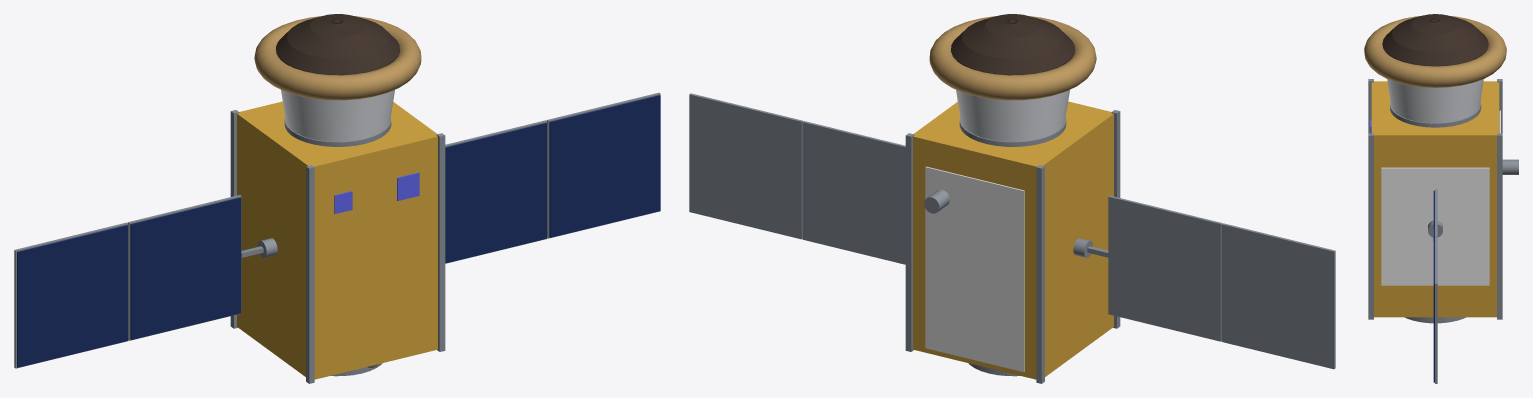
Rendered from SP-ALY.glb.
3 views of the same model, side by side, from view 1: azimuth 30°, elevation 25°; view 2: azimuth 150°, elevation 25°; view 3: azimuth 270°, elevation 25° (orthographic). The views are drawn at different scales.
Parts seen in each view (by area): view 1: service_module_structure, solar_panel_-X1, solar_panel_+X2, solar_panel_-X2, solar_panel_+X1, nose, heat_shield_packed, capsule_backshell, corner_rail_-X-Y, corner_rail_+X-Y, panel_frame_-X2, panel_frame_-X1 (+5 smaller); view 2: service_module_structure, radiator_+Y_face, panel_frame_-X2, panel_frame_+X2, panel_frame_-X1, panel_frame_+X1, nose, heat_shield_packed, capsule_backshell, corner_rail_-X+Y, corner_rail_+X+Y, corner_rail_-X-Y (+1 smaller); view 3: service_module_structure, furnace_radiator, nose, heat_shield_packed, capsule_backshell, corner_rail_+X-Y, corner_rail_+X+Y, separation_interface, panel_frame_+X2, solar_panel_+X2, launch_separation_ring, star_tracker (+3 smaller).
Part boxes in pixels (box(x1,y1,x2,y2)): service_module_structure: box(237, 101, 437, 379); solar_panel_-X1: box(130, 197, 241, 339); solar_panel_+X2: box(549, 95, 660, 237); solar_panel_-X2: box(17, 225, 127, 367); solar_panel_+X1: box(445, 123, 546, 263); nose: box(276, 14, 399, 75); heat_shield_packed: box(254, 16, 421, 100); capsule_backshell: box(281, 90, 394, 141); corner_rail_-X-Y: box(306, 165, 314, 383); corner_rail_+X-Y: box(436, 133, 445, 351); panel_frame_-X2: box(14, 222, 128, 368); panel_frame_-X1: box(127, 195, 241, 340); service_module_structure: box(913, 101, 1113, 379); radiator_+Y_face: box(925, 166, 1024, 371); panel_frame_-X2: box(1221, 223, 1335, 369); panel_frame_+X2: box(689, 93, 803, 239); panel_frame_-X1: box(1108, 195, 1222, 341); panel_frame_+X1: box(802, 121, 905, 264); nose: box(951, 14, 1074, 75); heat_shield_packed: box(929, 16, 1096, 100); capsule_backshell: box(956, 90, 1069, 141); corner_rail_-X+Y: box(1036, 165, 1044, 383); corner_rail_+X+Y: box(905, 133, 914, 351); corner_rail_-X-Y: box(1111, 110, 1120, 328); service_module_structure: box(1371, 81, 1499, 317); furnace_radiator: box(1381, 167, 1489, 285); nose: box(1382, 14, 1488, 66); heat_shield_packed: box(1364, 16, 1506, 87); capsule_backshell: box(1387, 79, 1483, 123); corner_rail_+X-Y: box(1368, 133, 1373, 319); corner_rail_+X+Y: box(1497, 133, 1502, 319); separation_interface: box(1390, 102, 1481, 127); panel_frame_+X2: box(1435, 236, 1437, 383); solar_panel_+X2: box(1433, 238, 1434, 382); launch_separation_ring: box(1405, 317, 1465, 323); star_tracker: box(1502, 159, 1518, 174).
Size of the model in its own units: 2.94 by 1.46 by 0.716.
